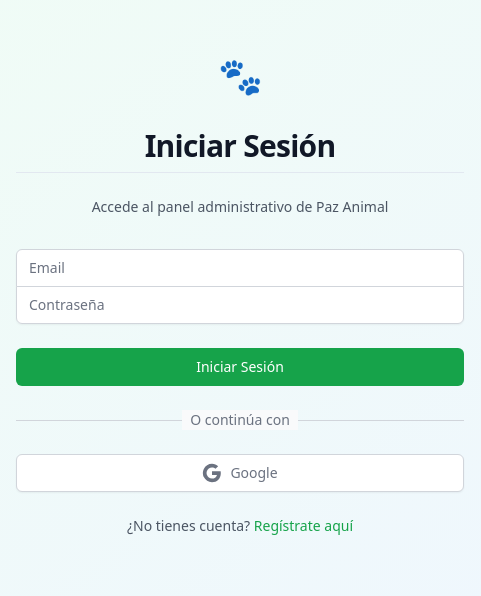
it: Login Page › shows validation errors for empty fields
Step 1. Click the button "Iniciar Sesión" → (240, 367), box left=16, top=348, right=464, bottom=386
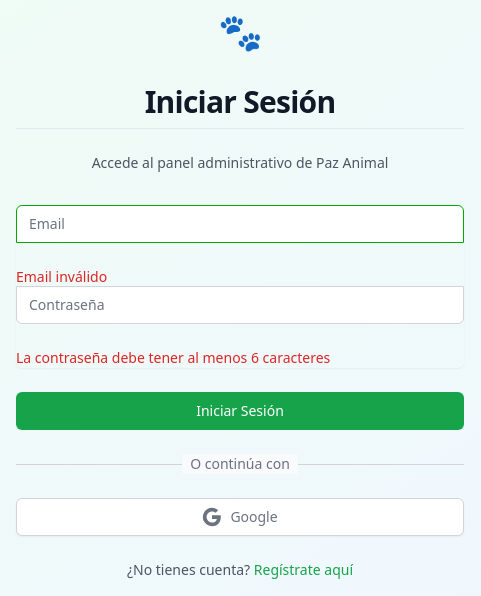
Check: the text "Email inválido" is shown, box left=16, top=267, right=107, bottom=286
Check: the text "La contraseña debe tener al menos 6 caracteres" is shown, box left=16, top=348, right=330, bottom=367
